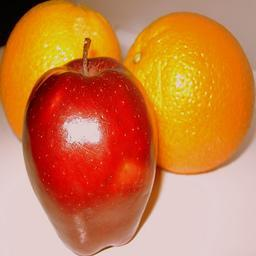apple: (20, 42, 160, 256)
